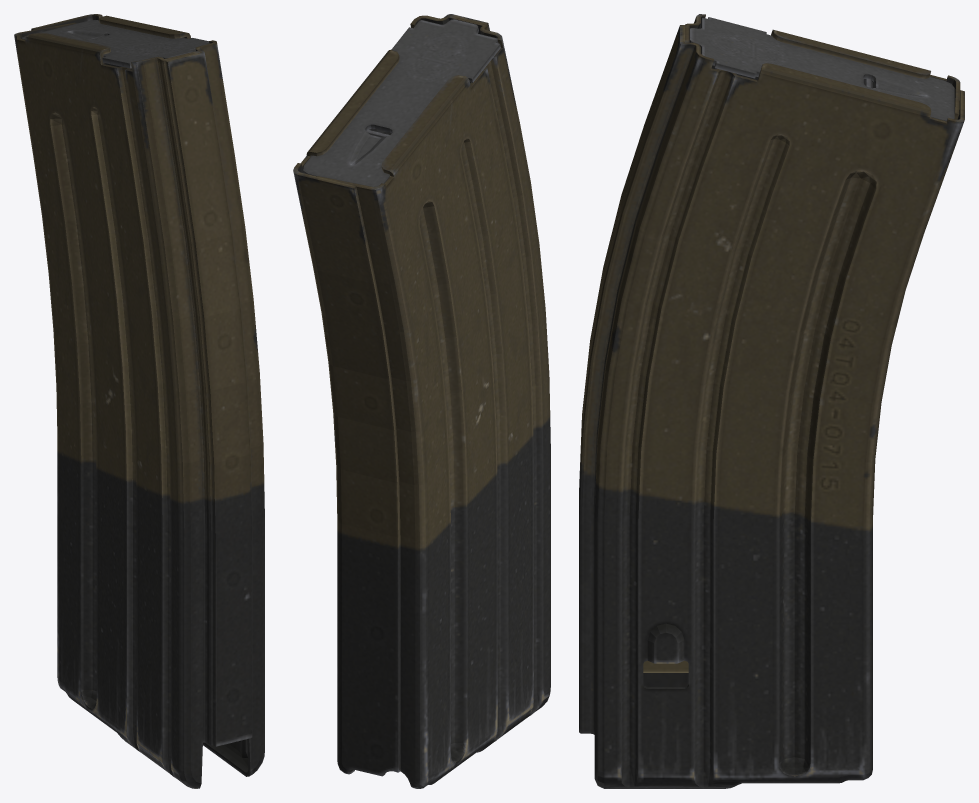
The picture shows the model from 3 angles, left to right: view 1: azimuth 30°, elevation 25°; view 2: azimuth 150°, elevation 25°; view 3: azimuth 270°, elevation 25°; orthographic projection. The views are drawn at different scales.
Visible parts, largest first — view 1: TW_61840d85568c120fdd2962a5_PZ_Import; view 2: TW_61840d85568c120fdd2962a5_PZ_Import; view 3: TW_61840d85568c120fdd2962a5_PZ_Import.
Boxes of the visible parts, x1,y1,x2,y2 form: TW_61840d85568c120fdd2962a5_PZ_Import: (14,14,264,788); TW_61840d85568c120fdd2962a5_PZ_Import: (293,14,550,788); TW_61840d85568c120fdd2962a5_PZ_Import: (579,14,964,788).
Bounding box in the file's own units: 0.014 × 0.0485 × 0.1027.
1 material, 1 textured.
